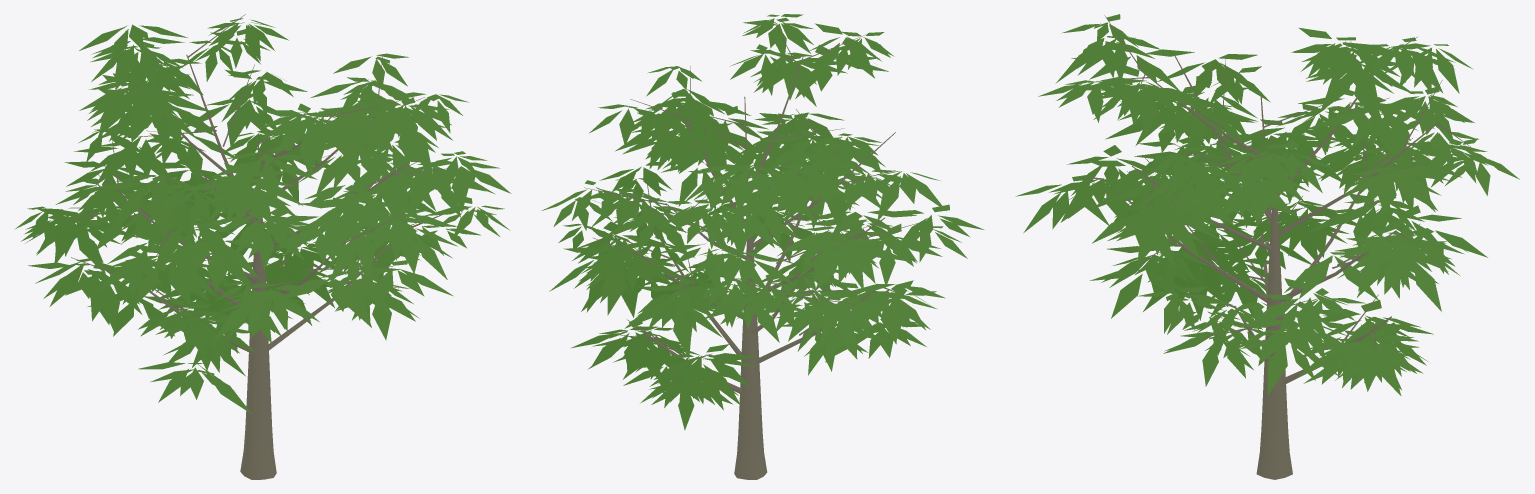
File: Blender_BigleafMaple_1.glb
3 views of the same model, side by side, from view 1: azimuth 30°, elevation 25°; view 2: azimuth 150°, elevation 25°; view 3: azimuth 270°, elevation 25° (orthographic). The views are drawn at different scales.
Parts seen in each view (by area): view 1: Blender_BigleafMaple_1; view 2: Blender_BigleafMaple_1; view 3: Blender_BigleafMaple_1.
Boxes of the visible parts, left/top/right/bottom form: Blender_BigleafMaple_1: left=14, top=14, right=511, bottom=479; Blender_BigleafMaple_1: left=541, top=14, right=984, bottom=479; Blender_BigleafMaple_1: left=1015, top=14, right=1519, bottom=479.
Size of the model in its own units: 24.76 by 24.89 by 26.31.
